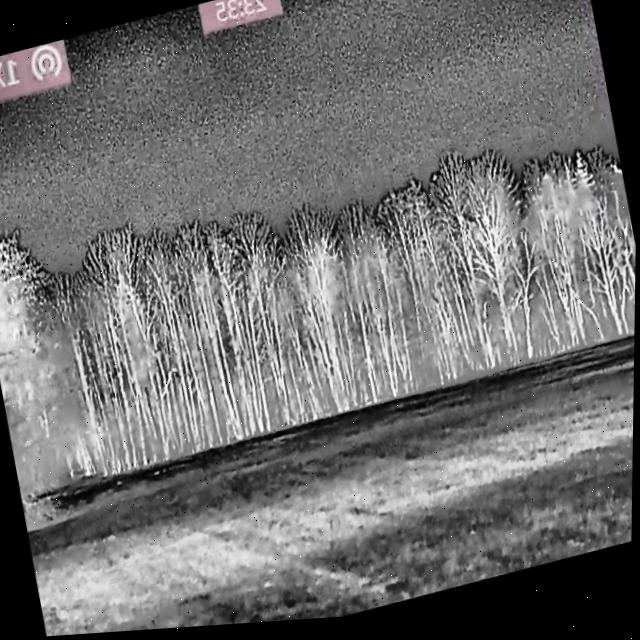drone: (431, 177, 441, 189)
